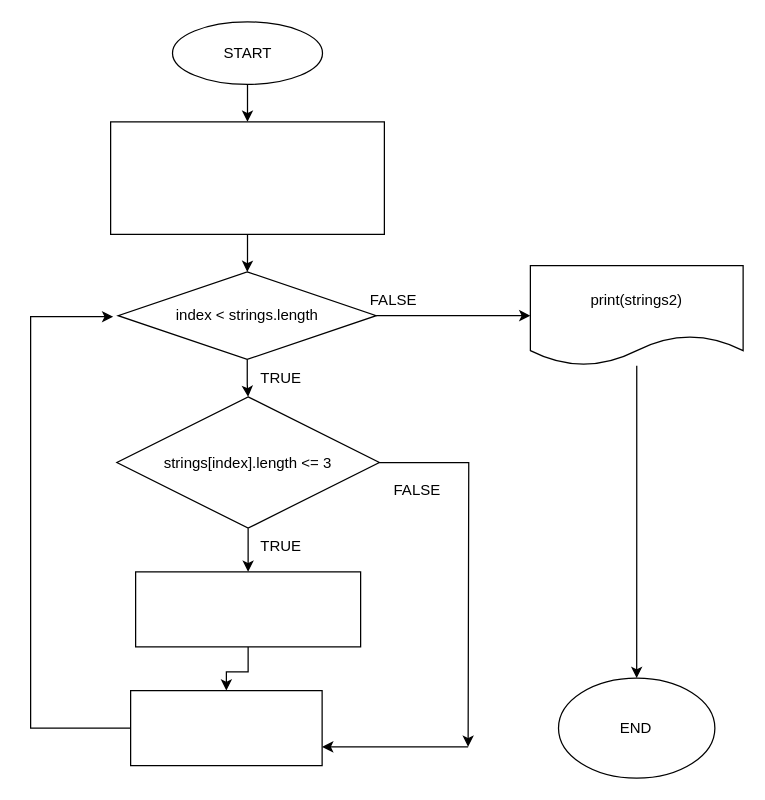
Image size: 765x800. Some labels were removed from this diagram. The box of each missing label's shape, as (x1, y1, x2, y2) in pixels:
index = index + 1: (129, 689, 322, 766)
strings = [string0, string1, ..., stringN ], index = 0, strings2 = []: (109, 121, 384, 234)
strings2.push(strings[index]): (134, 571, 361, 647)
